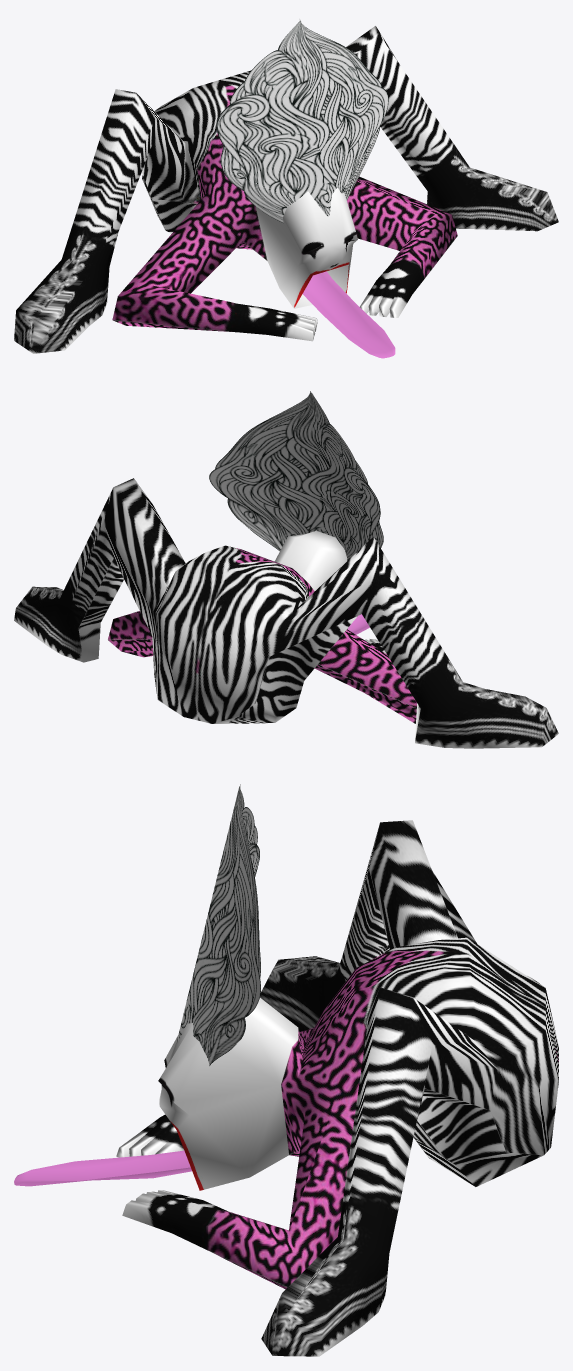
Rendered from giant.fbx.
3 views of the same model, one above another, from view 1: azimuth 30°, elevation 25°; view 2: azimuth 150°, elevation 25°; view 3: azimuth 270°, elevation 25° (orthographic). The views are drawn at different scales.
Parts seen in each view (by area): view 1: giant1:polySurface29, pCylinder1, polySurface37; view 2: giant1:polySurface29, pCylinder1; view 3: giant1:polySurface29, pCylinder1, polySurface37.
Part boxes in pixels (x1=…): giant1:polySurface29: x1=14, y1=26, x2=558, y2=353; pCylinder1: x1=216, y1=19, x2=388, y2=222; polySurface37: x1=302, y1=271, x2=395, y2=358; giant1:polySurface29: x1=14, y1=478, x2=558, y2=748; pCylinder1: x1=209, y1=391, x2=383, y2=560; giant1:polySurface29: x1=116, y1=820, x2=558, y2=1356; pCylinder1: x1=176, y1=784, x2=260, y2=1065; polySurface37: x1=14, y1=1150, x2=191, y2=1186.
Size of the model in its own units: 13.75 by 7.23 by 8.75.
Materials: 4 (2 with a texture image).
